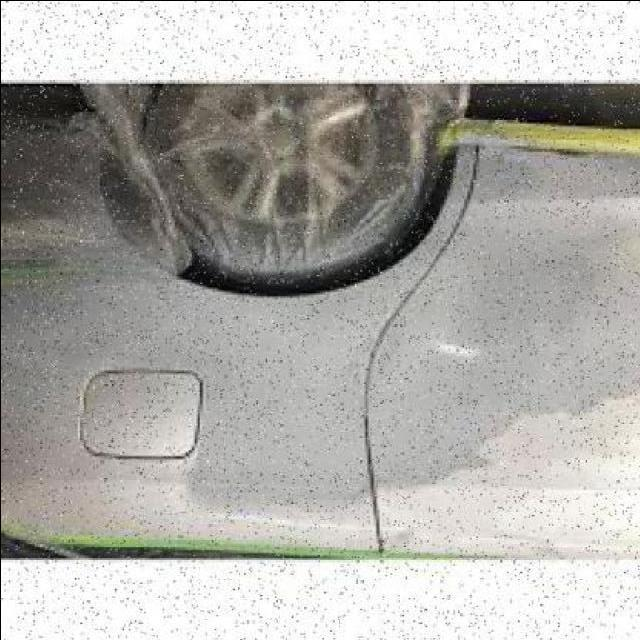quaterpanel-dent: (4, 125, 388, 558)
